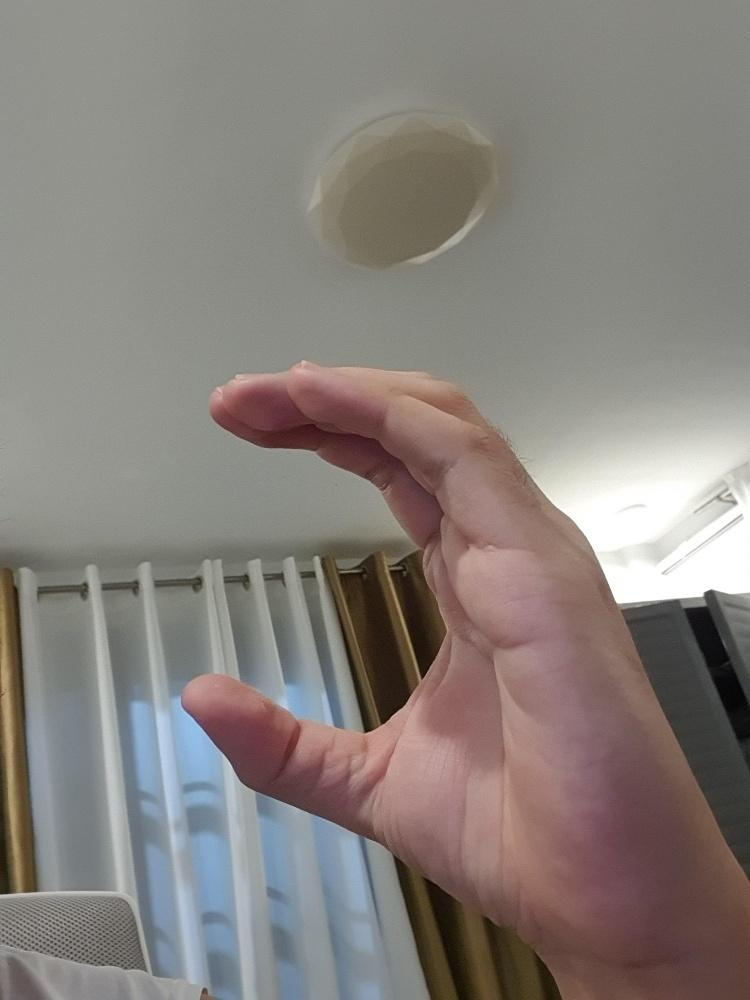c: (174, 355, 704, 965)
